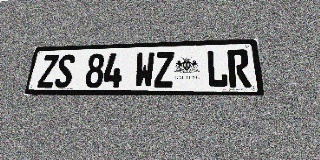4: (102, 53, 124, 88)
8: (84, 53, 106, 88)
L: (206, 50, 229, 87)
R: (227, 49, 251, 87)
S: (54, 54, 76, 88)
W: (134, 52, 155, 88)
Z: (154, 51, 174, 88), (37, 55, 59, 88)
